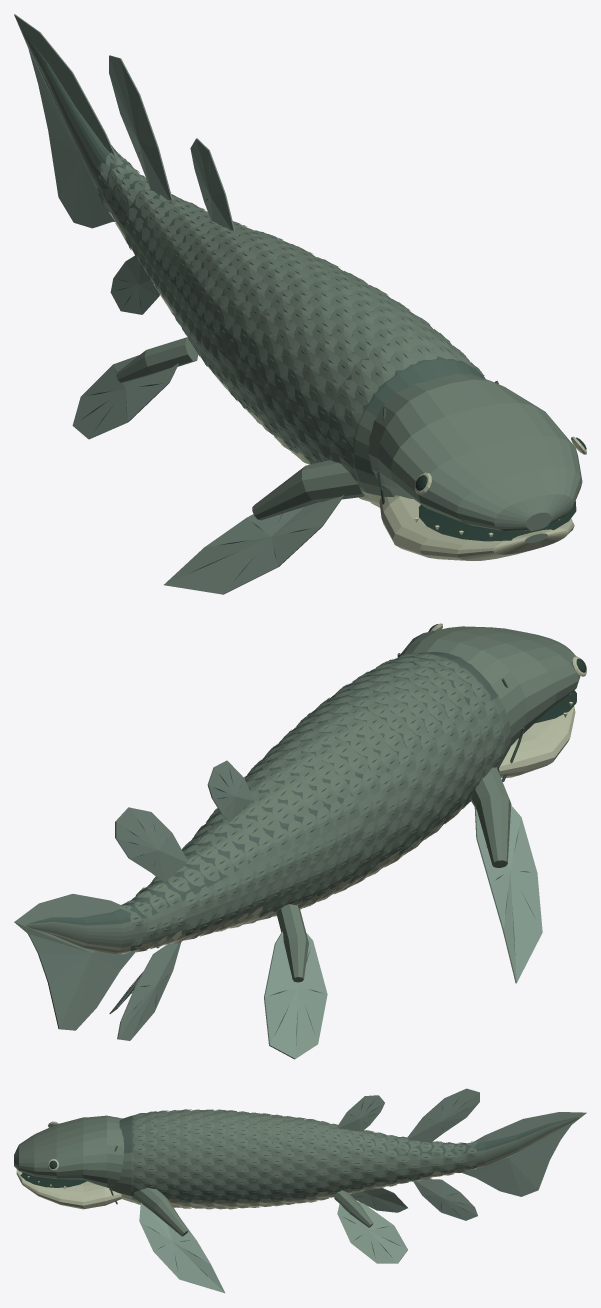
3 views of the same model, one above another, from view 1: azimuth 30°, elevation 25°; view 2: azimuth 150°, elevation 25°; view 3: azimuth 270°, elevation 25° (orthographic). The views are drawn at different scales.
Visible parts, largest first — view 1: Broad_flattened_cranium, Rounded_overlapping_dorsal_scales, Rounded_overlapping_flank_scales, Torso_and_axial_tail, Left_pectoral_lobed_fin, Asymmetric_tapering_caudal, Robust_lower_jaw, Left_pelvic_lobed_fin, Left_pectoral_fleshy_lobe, Larger_second_posterior_dorsal, Posterior_ridges_dorsal, First_separate_posterior_dorsal (+4 smaller); view 2: Rounded_overlapping_dorsal_scales, Rounded_overlapping_flank_scales, Torso_and_axial_tail, Broad_flattened_cranium, Asymmetric_tapering_caudal, Left_pectoral_lobed_fin, Left_pelvic_lobed_fin, Larger_second_posterior_dorsal, Robust_lower_jaw, Discrete_posterior_anal, Left_pectoral_fleshy_lobe, Posterior_ridges_dorsal (+5 smaller); view 3: Rounded_overlapping_flank_scales, Rounded_overlapping_dorsal_scales, Broad_flattened_cranium, Torso_and_axial_tail, Asymmetric_tapering_caudal, Right_pectoral_lobed_fin, Right_pelvic_lobed_fin, Larger_second_posterior_dorsal, Robust_lower_jaw, Rounded_overlapping_ventral_scales, Discrete_posterior_anal, Posterior_ridges_flank (+7 smaller).
Boxes of the visible parts, x1,y1,x2,y2 form: Broad_flattened_cranium: (368, 373, 582, 531); Rounded_overlapping_dorsal_scales: (106, 152, 475, 405); Rounded_overlapping_flank_scales: (97, 158, 485, 490); Torso_and_axial_tail: (24, 34, 484, 504); Left_pectoral_lobed_fin: (164, 495, 344, 594); Asymmetric_tapering_caudal: (14, 14, 115, 228); Robust_lower_jaw: (379, 495, 574, 560); Left_pelvic_lobed_fin: (72, 355, 178, 439); Left_pectoral_fleshy_lobe: (252, 460, 364, 520); Larger_second_posterior_dorsal: (109, 55, 172, 200); Posterior_ridges_dorsal: (110, 153, 470, 396); First_separate_posterior_dorsal: (190, 138, 234, 230); Rounded_overlapping_dorsal_scales: (119, 653, 490, 918); Rounded_overlapping_flank_scales: (130, 696, 503, 951); Torso_and_axial_tail: (26, 651, 511, 954); Broad_flattened_cranium: (400, 626, 580, 746); Asymmetric_tapering_caudal: (14, 894, 134, 1030); Left_pectoral_lobed_fin: (474, 805, 542, 983); Left_pelvic_lobed_fin: (264, 931, 327, 1059); Larger_second_posterior_dorsal: (115, 807, 187, 882); Robust_lower_jaw: (498, 706, 575, 778); Discrete_posterior_anal: (117, 942, 181, 1040); Left_pectoral_fleshy_lobe: (471, 767, 511, 867); Posterior_ridges_dorsal: (121, 653, 485, 911); Rounded_overlapping_flank_scales: (132, 1142, 477, 1203); Rounded_overlapping_dorsal_scales: (132, 1109, 476, 1158); Broad_flattened_cranium: (14, 1115, 124, 1187); Torso_and_axial_tail: (109, 1111, 579, 1208); Asymmetric_tapering_caudal: (462, 1112, 586, 1196); Right_pectoral_lobed_fin: (139, 1202, 224, 1293); Right_pelvic_lobed_fin: (337, 1202, 407, 1263); Larger_second_posterior_dorsal: (406, 1088, 479, 1142); Robust_lower_jaw: (16, 1169, 121, 1209); Rounded_overlapping_ventral_scales: (133, 1168, 476, 1209); Discrete_posterior_anal: (413, 1179, 477, 1220); Posterior_ridges_flank: (137, 1146, 474, 1201).
Size of the model in its own units: 0.3309 by 0.2843 by 0.9.
